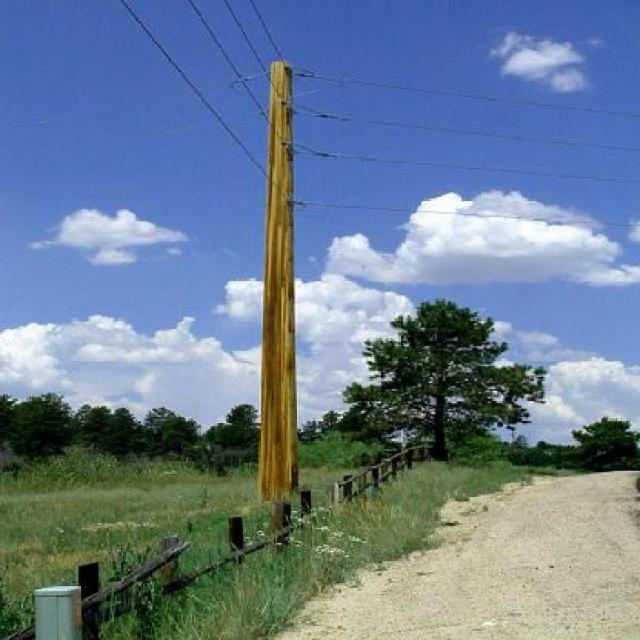pole: (205, 52, 346, 480)
